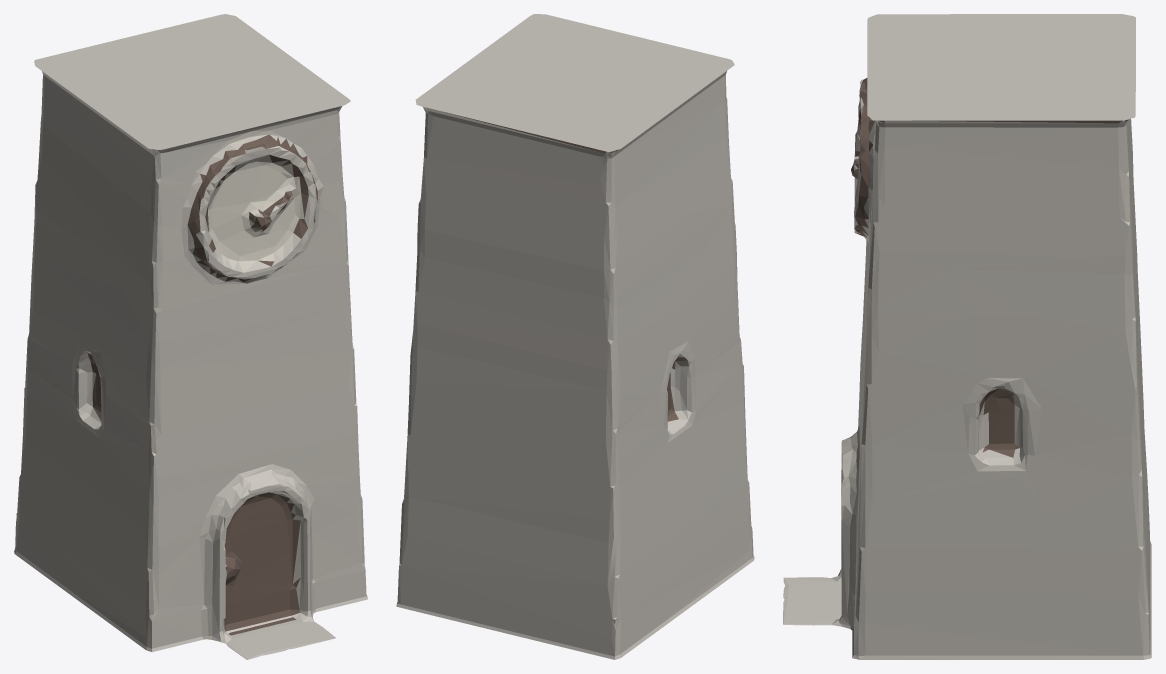
Rendered from etape-1.glb.
3 renders of one model, left to right at view 1: azimuth 30°, elevation 25°; view 2: azimuth 150°, elevation 25°; view 3: azimuth 270°, elevation 25°, orthographic. The views are drawn at different scales.
Parts seen in each view (by area): view 1: geometry_0; view 2: geometry_0; view 3: geometry_0.
Boxes of the visible parts, x1,y1,x2,y2 form: geometry_0: (14, 14, 367, 659); geometry_0: (396, 14, 754, 659); geometry_0: (783, 14, 1151, 659).
Size of the model in its own units: 0.3413 by 0.7263 by 0.4537.
